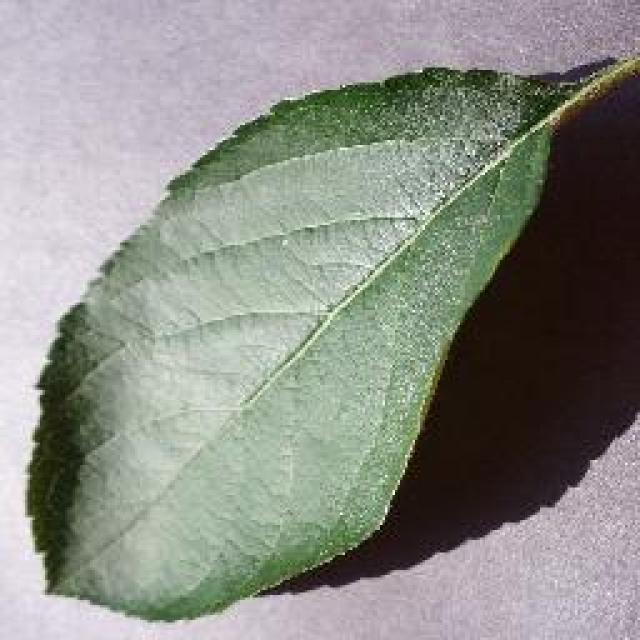apple healthy: (22, 35, 638, 625)
